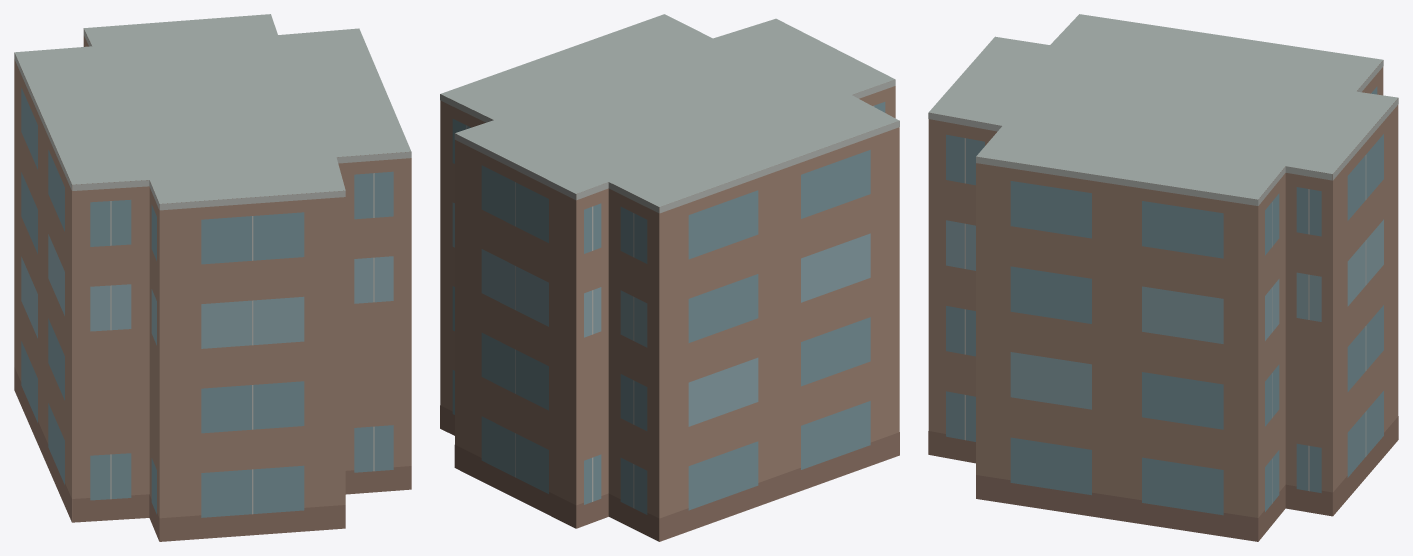
File: survey-upis-32893565.glb
3 views of the same model, side by side, from view 1: azimuth 30°, elevation 25°; view 2: azimuth 150°, elevation 25°; view 3: azimuth 270°, elevation 25° (orthographic). The views are drawn at different scales.
Visible parts, largest first — view 1: survey-upis-32893565.tmp; view 2: survey-upis-32893565.tmp; view 3: survey-upis-32893565.tmp.
Part boxes in pixels (x1,y1,x2,y2): survey-upis-32893565.tmp: (14,14,411,541); survey-upis-32893565.tmp: (440,14,899,541); survey-upis-32893565.tmp: (928,14,1398,541).
Size of the model in its own units: 14.9 by 12.8 by 15.94.
